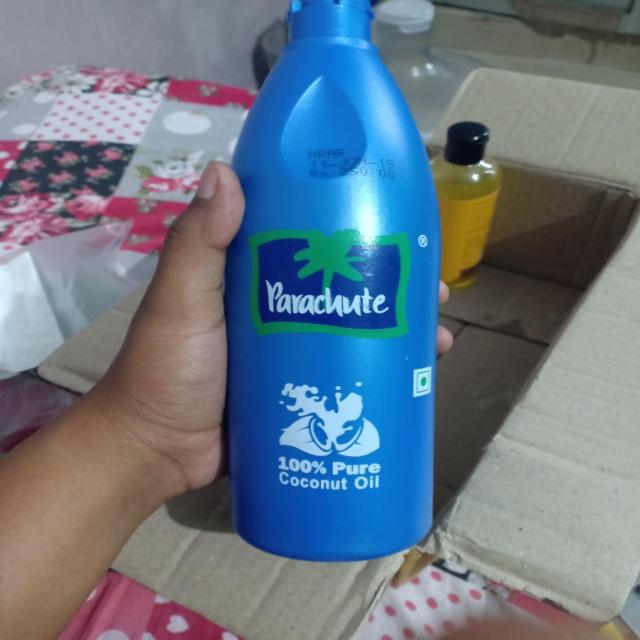parachute_oil: (221, 0, 448, 561)
